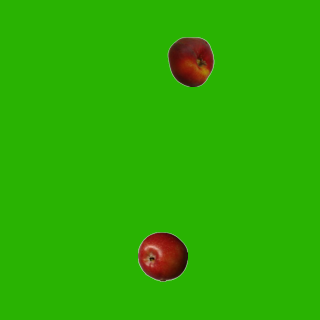Apple Braeburn: (137, 231, 187, 281)
Nectarine Flat: (165, 36, 215, 86)
